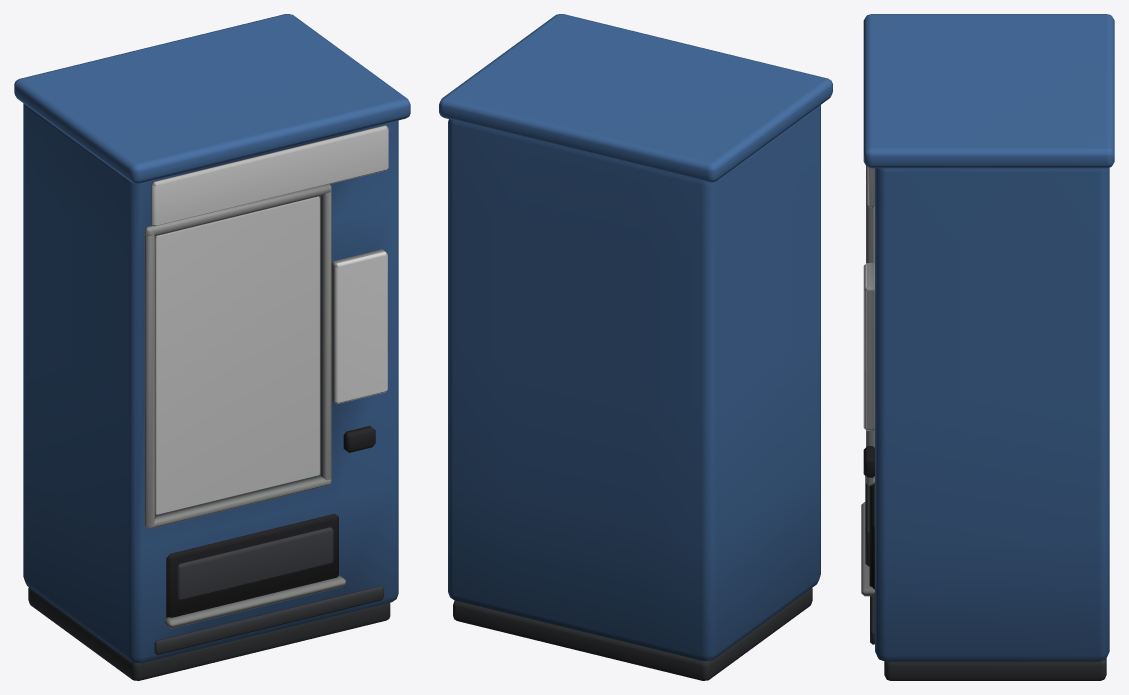
Rendered from VendingBlue.fbx.
The picture shows the model from 3 angles, left to right: view 1: azimuth 30°, elevation 25°; view 2: azimuth 150°, elevation 25°; view 3: azimuth 270°, elevation 25°; orthographic projection. The views are drawn at different scales.
Visible parts, largest first — view 1: VendingBlue; view 2: VendingBlue; view 3: VendingBlue.
Boxes of the visible parts, x1,y1,x2,y2 form: VendingBlue: [14, 14, 410, 680]; VendingBlue: [439, 14, 832, 680]; VendingBlue: [861, 14, 1114, 680].
Bounding box in the file's own units: 1.04 × 1.86 × 0.7975.
